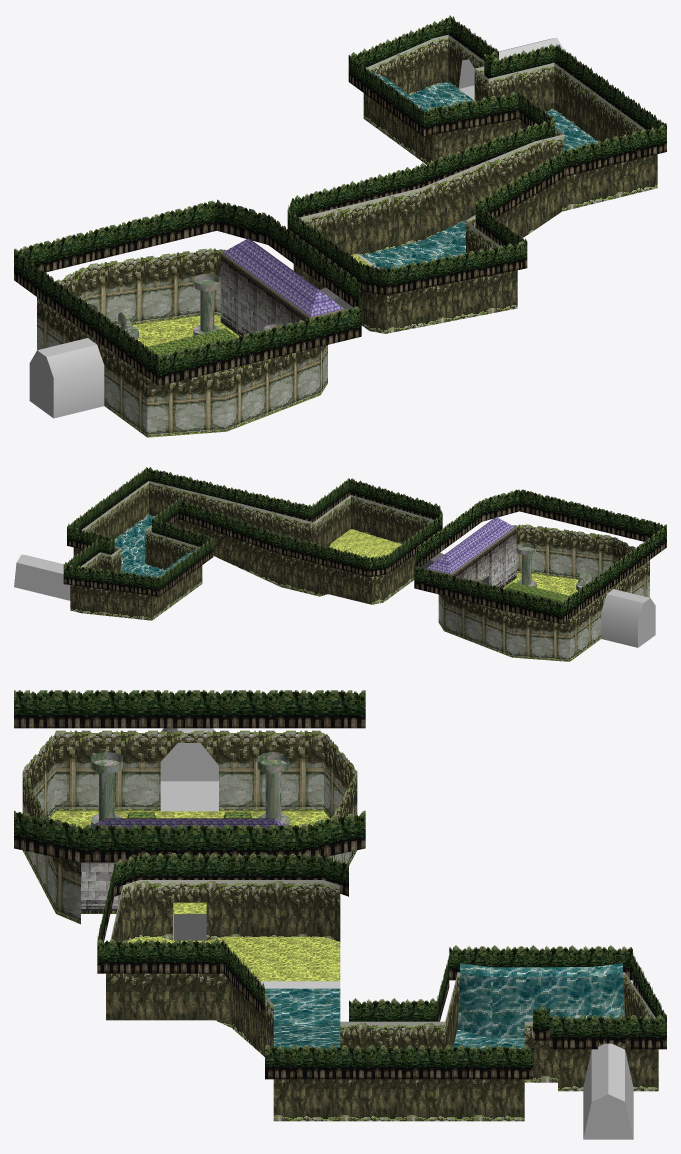
The picture shows the model from 3 angles, top to bottom: view 1: azimuth 30°, elevation 25°; view 2: azimuth 150°, elevation 25°; view 3: azimuth 270°, elevation 25°; orthographic projection. The views are drawn at different scales.
Parts seen in each view (by area): view 1: Colision Main, No Colision, Upwards Water; view 2: Colision Main, No Colision; view 3: Colision Main, No Colision, Waterfall, Upwards Water.
Part boxes in pixels (left/top/right/bottom): Colision Main: left=29, top=34, right=657, bottom=437; No Colision: left=14, top=15, right=666, bottom=385; Upwards Water: left=421, top=219, right=467, bottom=257; Colision Main: left=14, top=481, right=655, bottom=661; No Colision: left=63, top=467, right=666, bottom=624; Colision Main: left=22, top=728, right=658, bottom=1139; No Colision: left=14, top=690, right=666, bottom=1079; Waterfall: left=457, top=963, right=624, bottom=1038; Upwards Water: left=273, top=1024, right=340, bottom=1049.
Bounding box in the file's own units: 7376 × 1064 × 4992.
